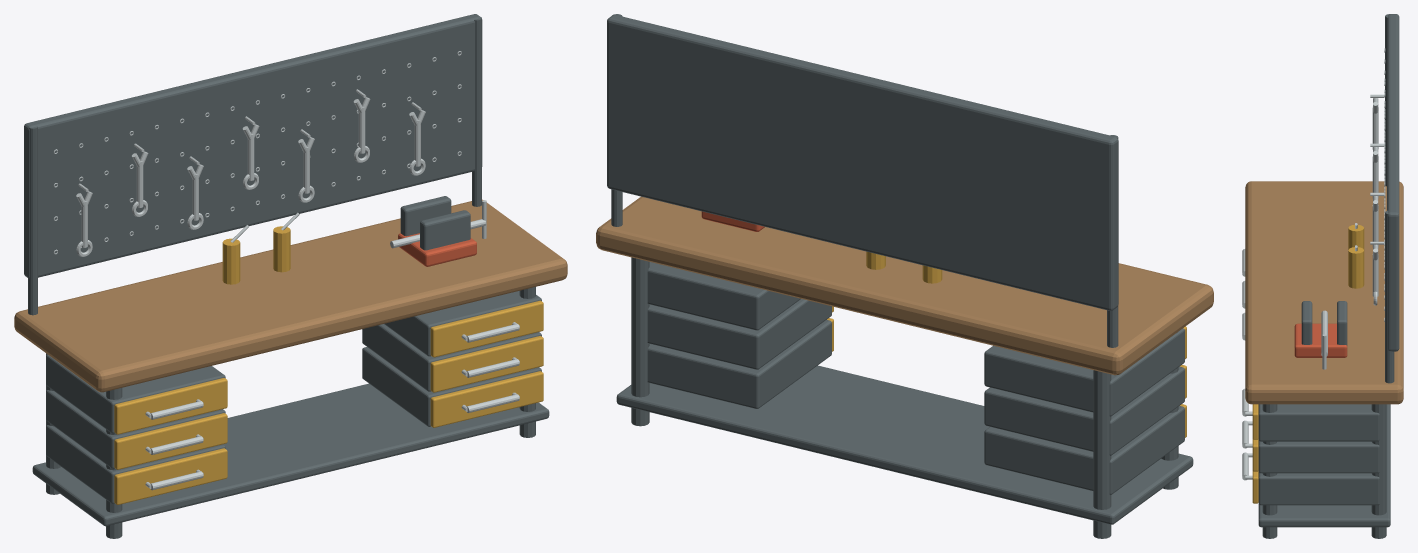
File: mei-workbench.glb
The picture shows the model from 3 angles, left to right: view 1: azimuth 30°, elevation 25°; view 2: azimuth 150°, elevation 25°; view 3: azimuth 270°, elevation 25°; orthographic projection. The views are drawn at different scales.
Visible parts, largest first — view 1: AuthoredWorkshop; view 2: AuthoredWorkshop; view 3: AuthoredWorkshop.
Boxes of the visible parts, bbox=[...] form: AuthoredWorkshop: bbox=[14, 14, 567, 538]; AuthoredWorkshop: bbox=[596, 14, 1213, 538]; AuthoredWorkshop: bbox=[1242, 14, 1403, 538].
Bounding box in the file's own units: 2.8 × 2.07 × 0.918.
